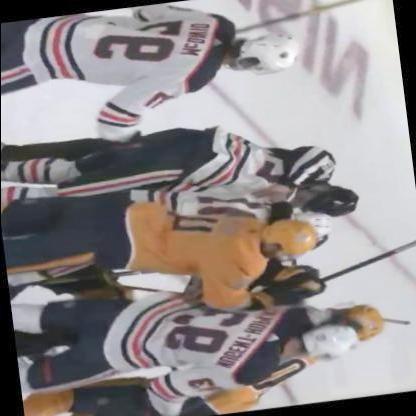voilence: (131, 129, 386, 386)
